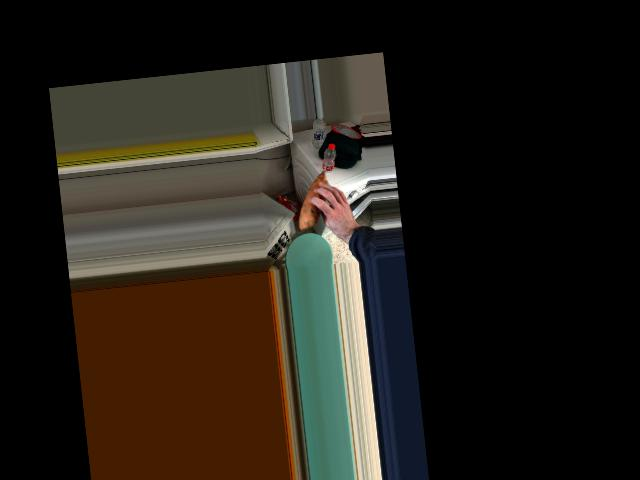sweet_potato: (295, 173, 340, 221)
